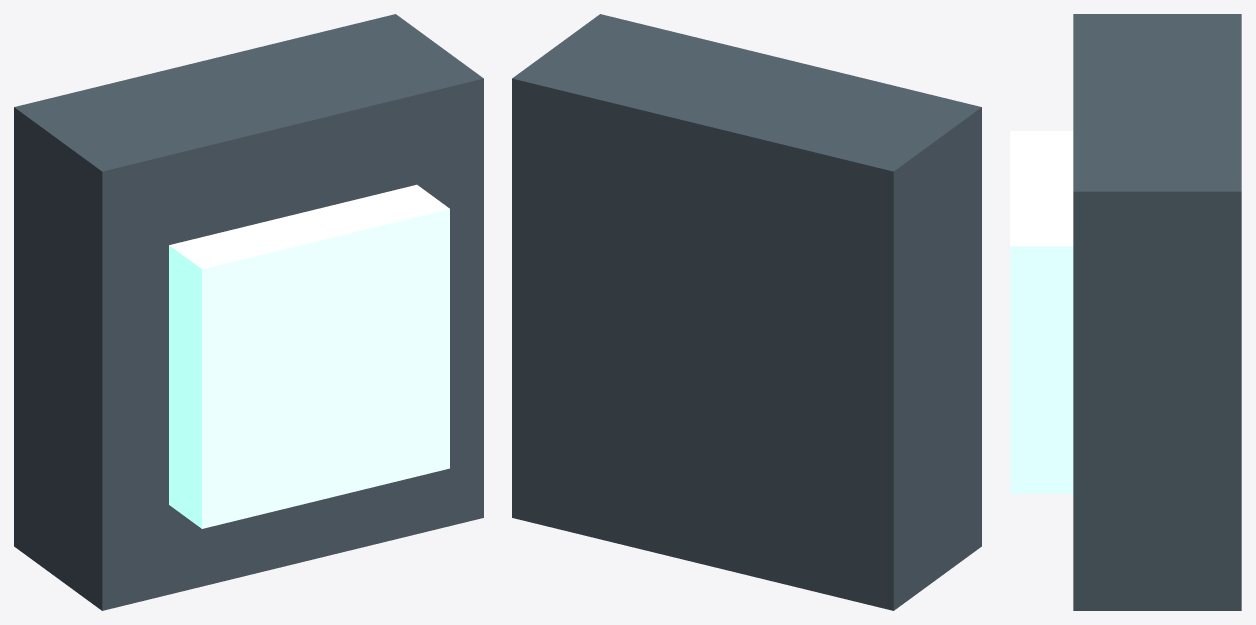
The model's file is door_button.glb.
3 renders of one model, left to right at view 1: azimuth 30°, elevation 25°; view 2: azimuth 150°, elevation 25°; view 3: azimuth 270°, elevation 25°, orthographic. The views are drawn at different scales.
Visible parts, largest first — view 1: dark_0, green_1; view 2: dark_0; view 3: dark_0, green_1.
Boxes of the visible parts, left/top/right/bottom form: dark_0: left=14, top=14, right=483, bottom=610; green_1: left=169, top=184, right=449, bottom=528; dark_0: left=512, top=14, right=981, bottom=610; dark_0: left=1073, top=14, right=1241, bottom=610; green_1: left=1010, top=131, right=1073, bottom=493.
Size of the model in its own units: 0.2 by 0.22 by 0.11.
